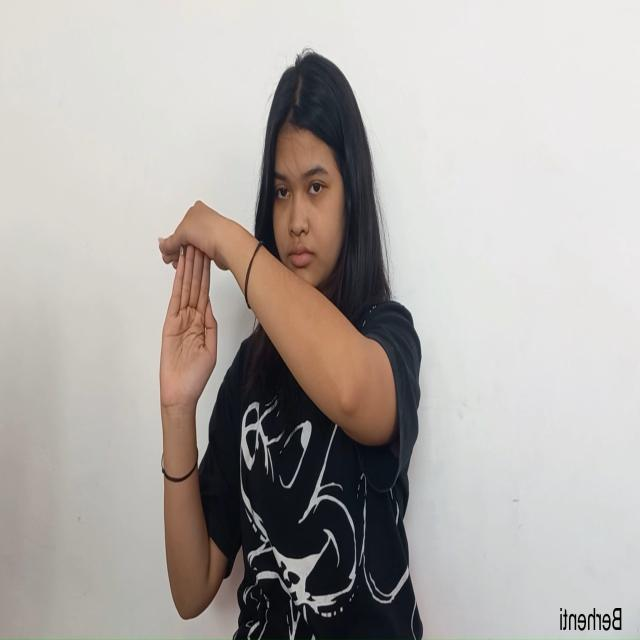Berhenti -BISINDO-: (157, 197, 241, 427)
